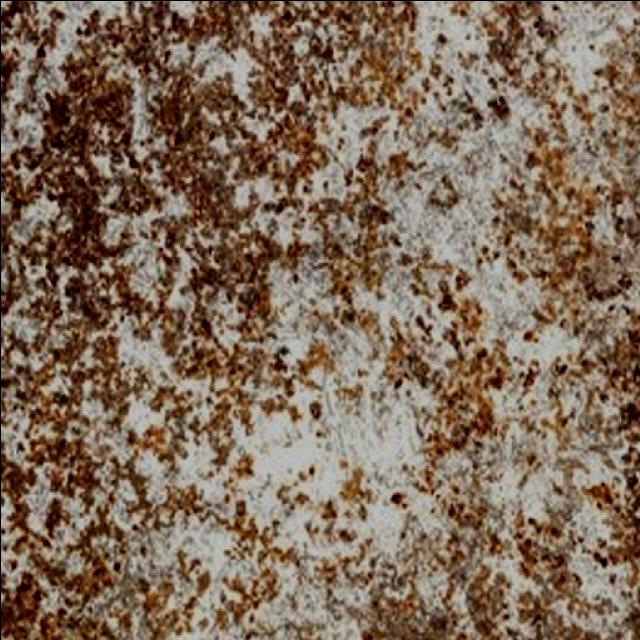wall_corrosion: (3, 0, 640, 640)
